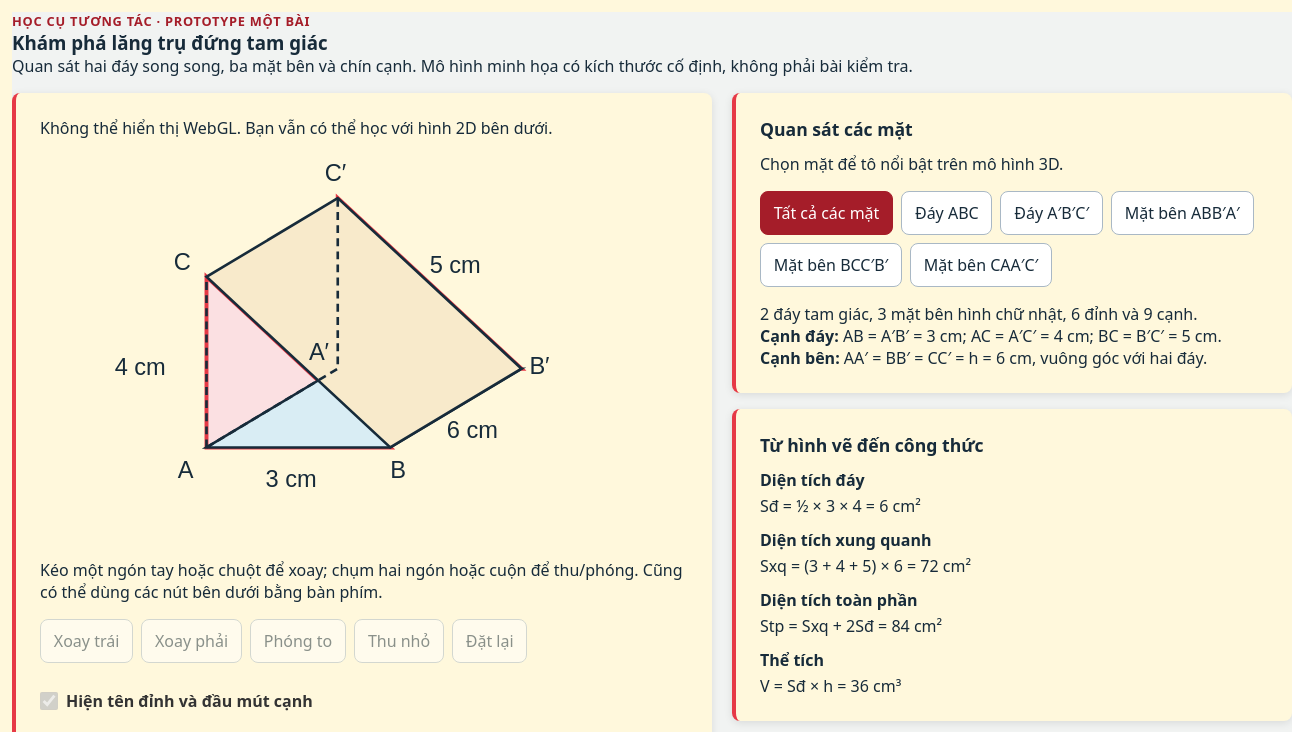
Test: WebGL thất bại vẫn có SVG và công thức, không cho điều khiển GPU
Check: the picture "A B C A′ B′ C′ 3 cm 4 cm 5 cm 6 cm" is shown, box 40,139 -> 688,559
Check: the button "Xoay trái" is disabled, box 40,619 -> 133,663
Click the button "Đáy ABC" at (947, 213), box 901,191 -> 992,235
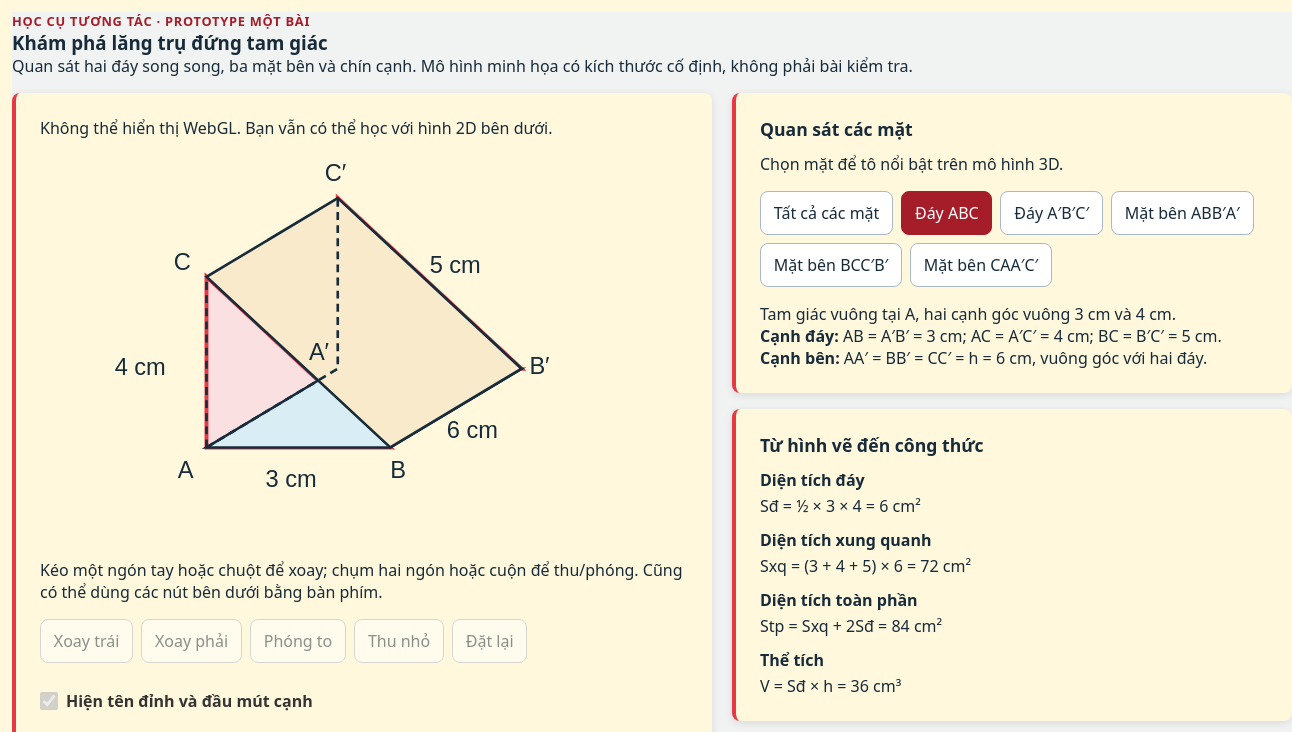
Check: the text "Tam giác vuông tại A" is shown, box 760,303 -> 1176,325
